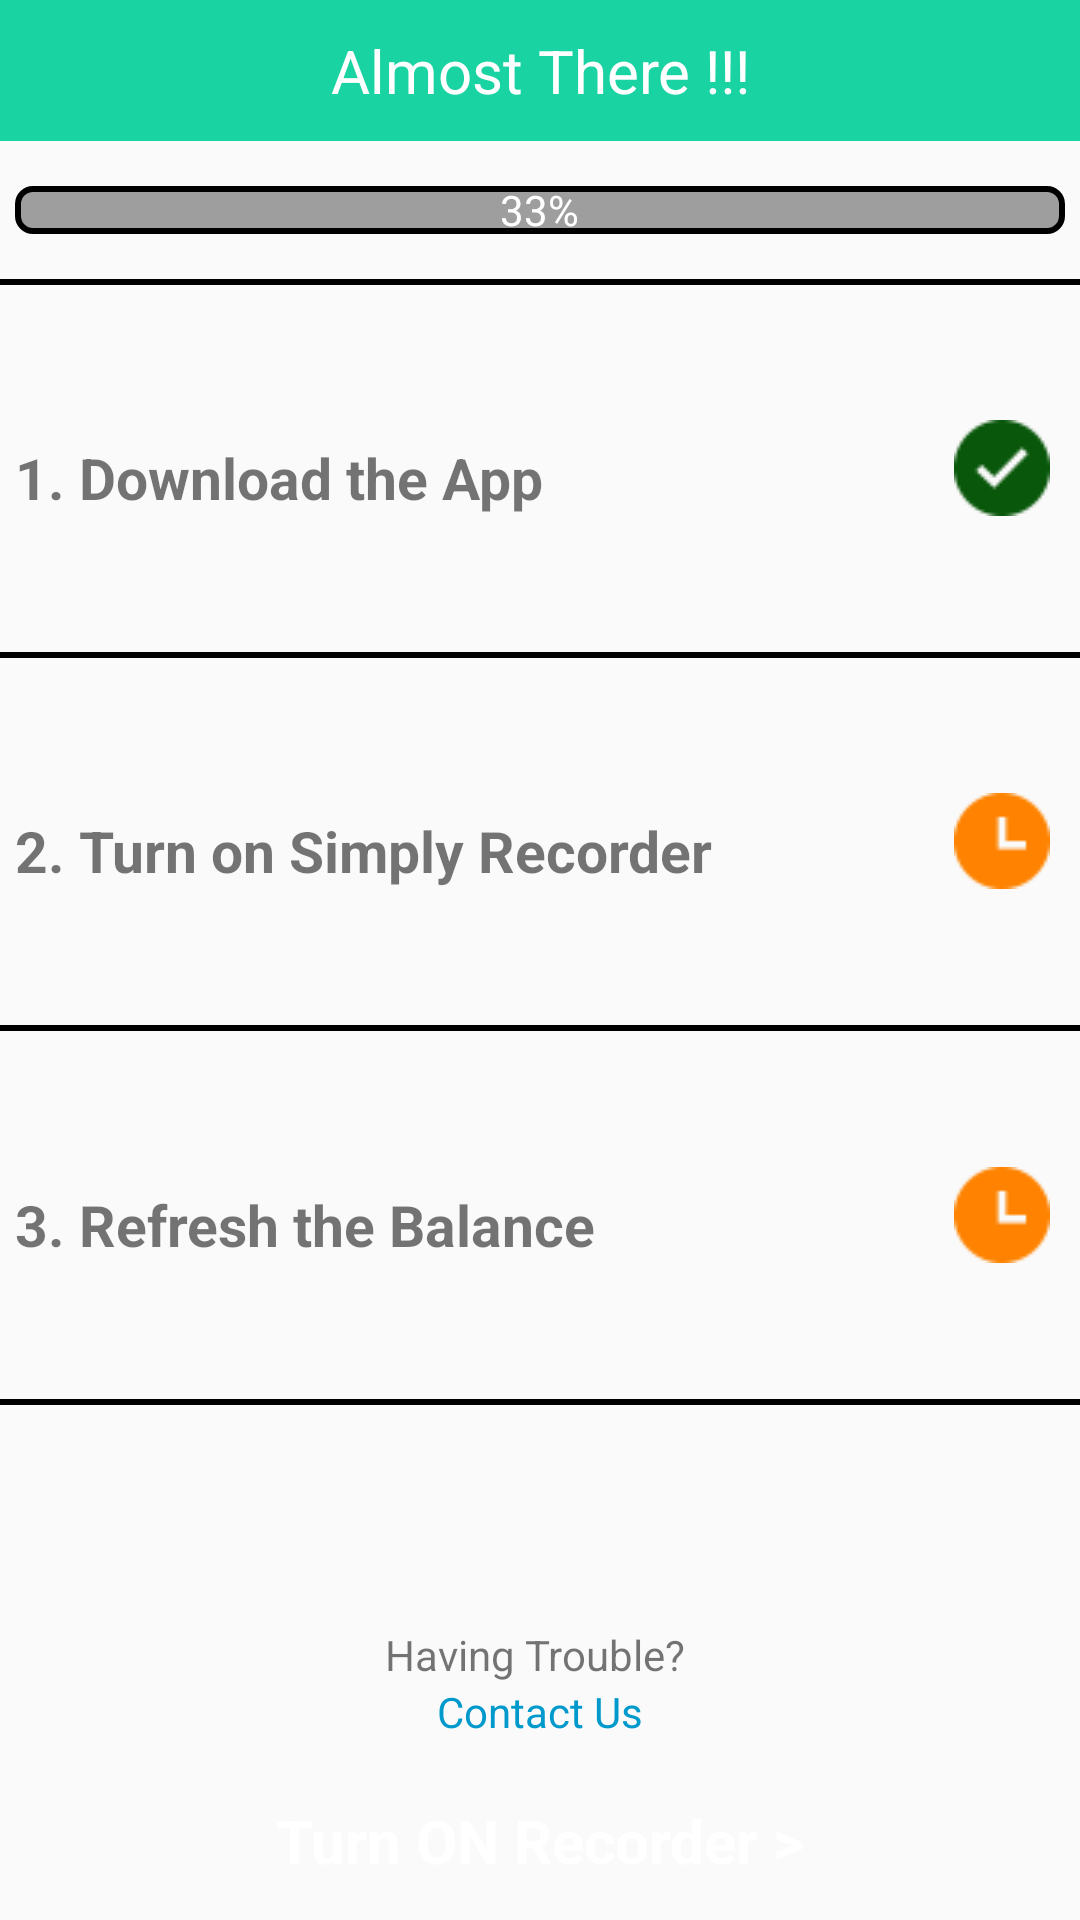

Where to tap for icons on this 1080x1920 app screen, as (x=x, y=y):
checked: (x=1002, y=468)
waiting: (x=1002, y=841), (x=1002, y=1215)
